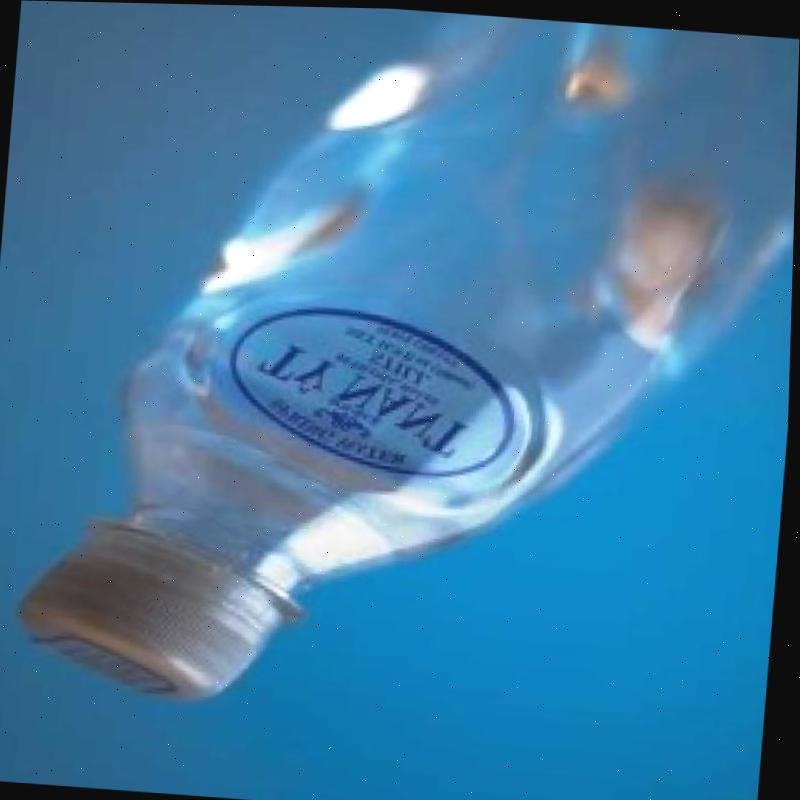botella: (7, 0, 800, 738)
